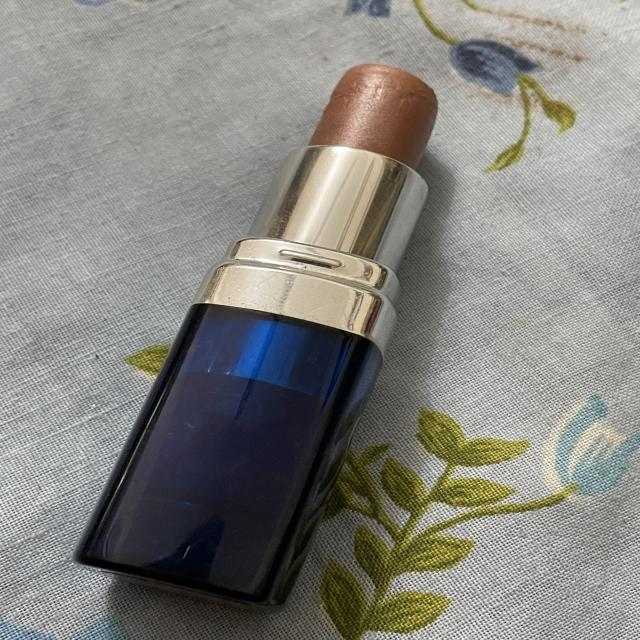lip stick: (51, 46, 498, 616)
